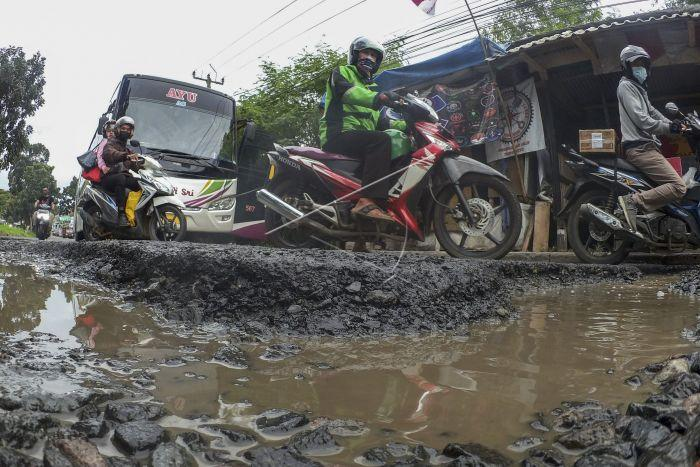Pothole: (0, 202, 700, 467)
